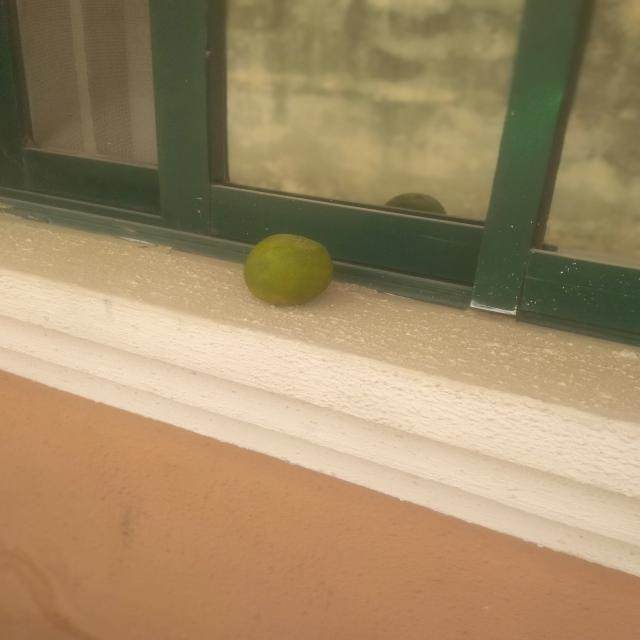Unripe: (238, 210, 358, 316)
